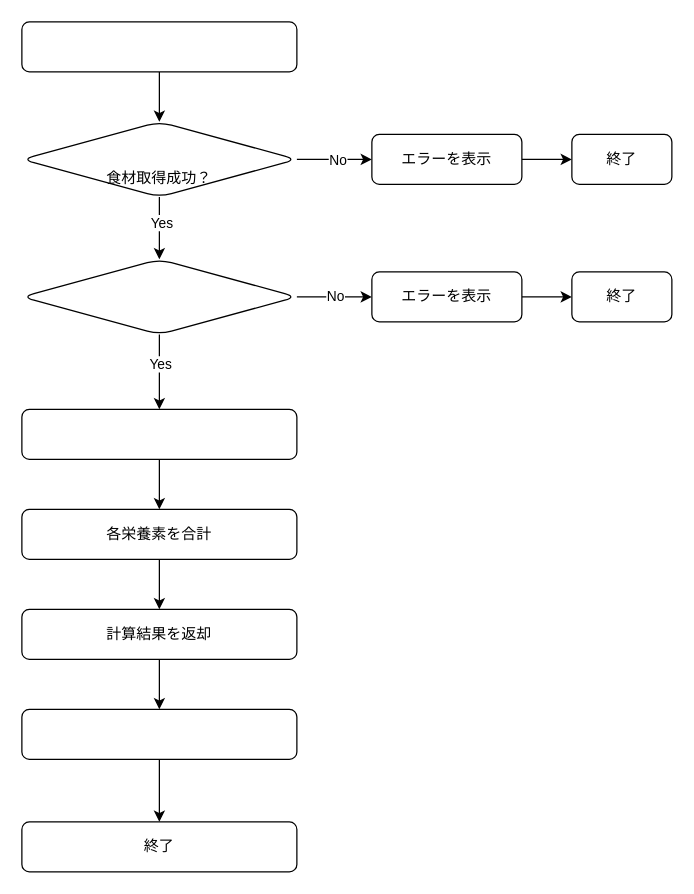
This 694x894 diagram has some shape labels left out. The centre of each missing label's shape, as x and y in pixels:
"ユーザーが栄養価計算を実行" goes at pixel 159 46.
"栄養価×使用量÷100を計算" goes at pixel 159 433.
"栄養価取得成功？" goes at pixel 159 296.
"結果を表示" goes at pixel 159 733.
